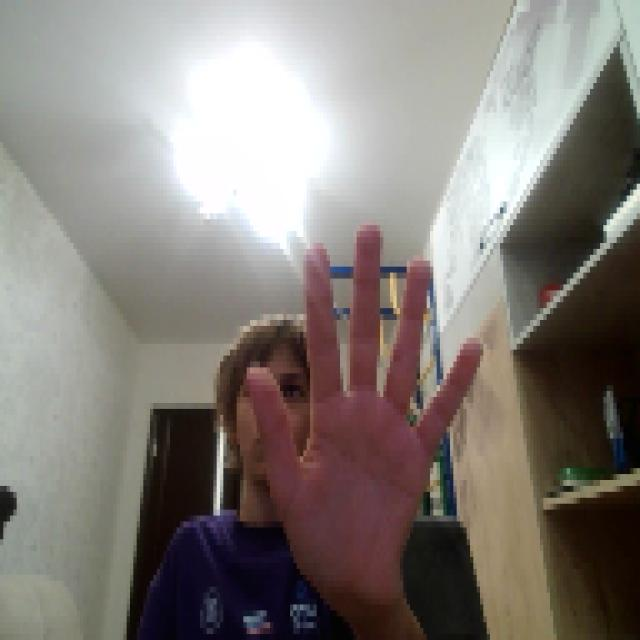hand: (240, 207, 477, 587)
